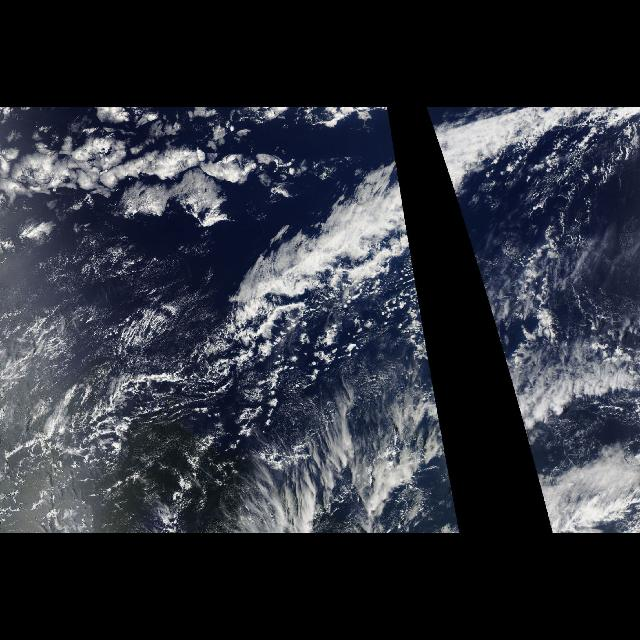Fish: (6, 225, 460, 532), (322, 128, 418, 298), (432, 128, 502, 298)
Flower: (1, 112, 310, 232)
